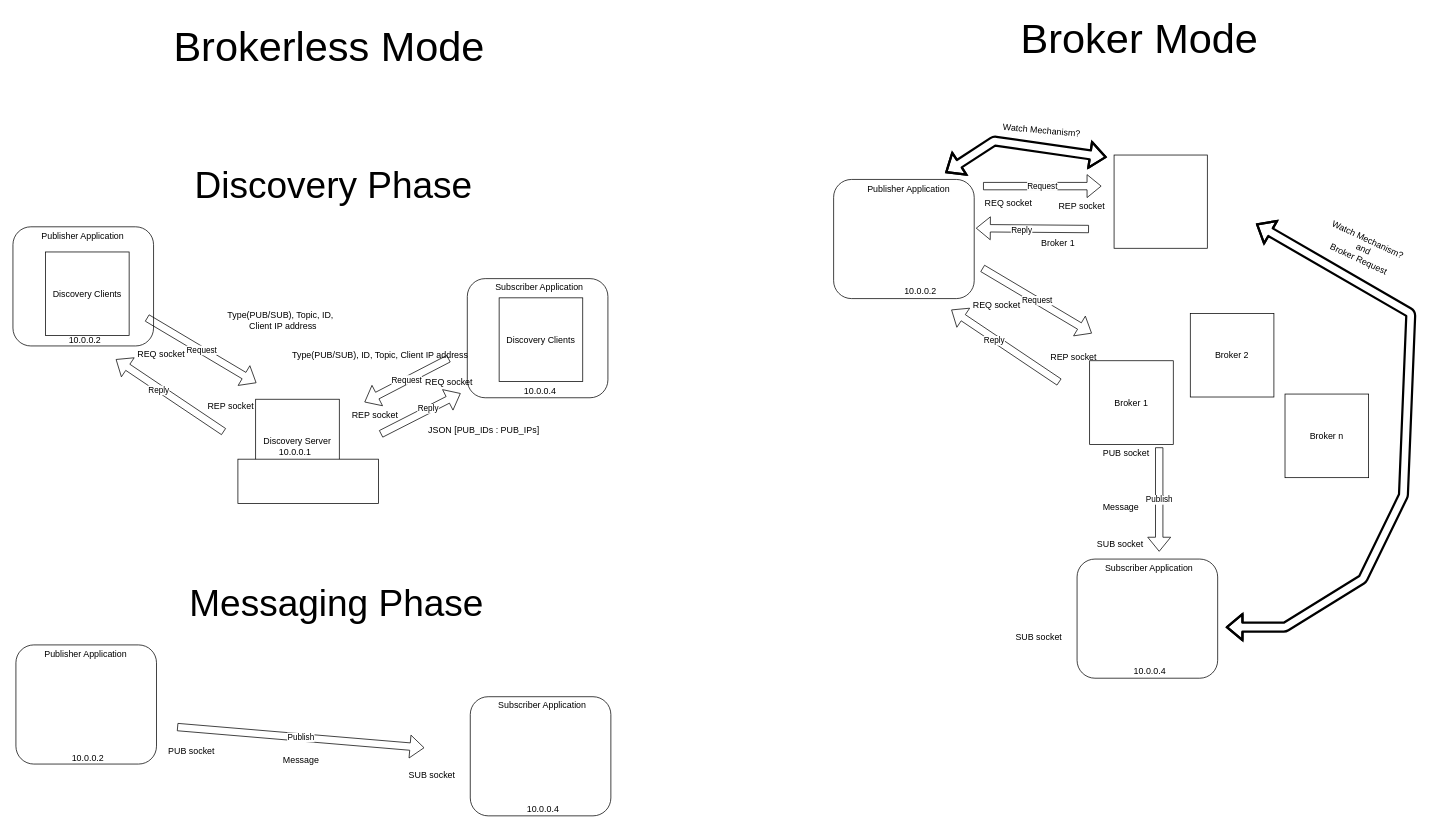
Some shapes in this 1429 by 829 pixel diagram are drawn without their labels. Each missing label, with the centre of its shape:
"Dictionary of [ Type(PUB/SUB), ID, Topic, Client IP address]" goes at point (308, 481).
"Zookeeper" goes at point (1160, 201).
